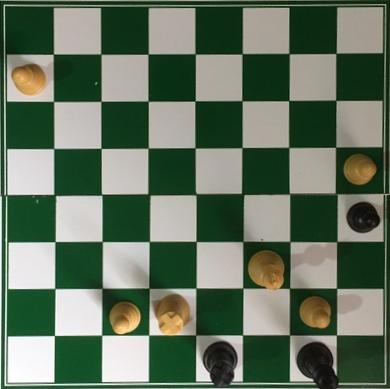black-king: (295, 341, 342, 388)
black-pawn: (344, 201, 380, 235)
black-rook: (200, 340, 240, 388)
white-king: (245, 249, 286, 294)
white-pawn: (295, 293, 333, 331), (9, 61, 48, 97), (106, 299, 142, 336), (341, 153, 378, 188)
white-rook: (154, 294, 192, 338)
